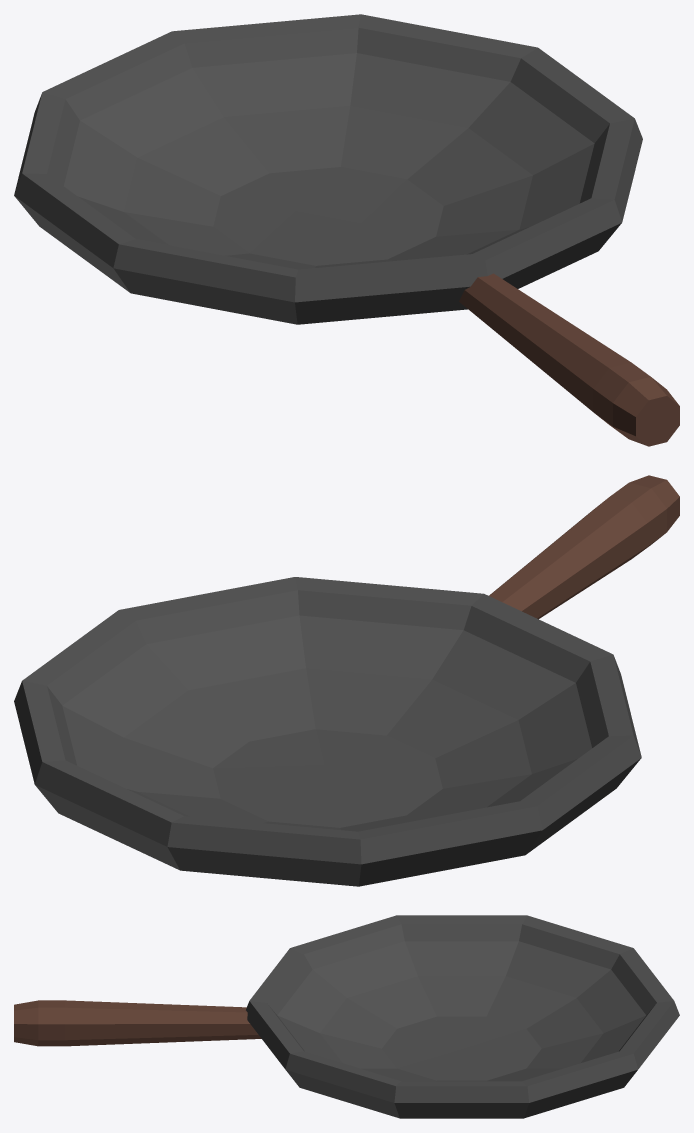
The model's file is quaternius-ultimate-food-fryingpan.glb.
The picture shows the model from 3 angles, top to bottom: view 1: azimuth 30°, elevation 25°; view 2: azimuth 150°, elevation 25°; view 3: azimuth 270°, elevation 25°; orthographic projection. The views are drawn at different scales.
Visible parts, largest first — view 1: FryingPan; view 2: FryingPan; view 3: FryingPan.
Boxes of the visible parts, bbox=[...] form: FryingPan: bbox=[14, 14, 679, 446]; FryingPan: bbox=[14, 475, 679, 886]; FryingPan: bbox=[14, 915, 679, 1118].
Bounding box in the file's own units: 1.74 × 0.2529 × 2.79.
